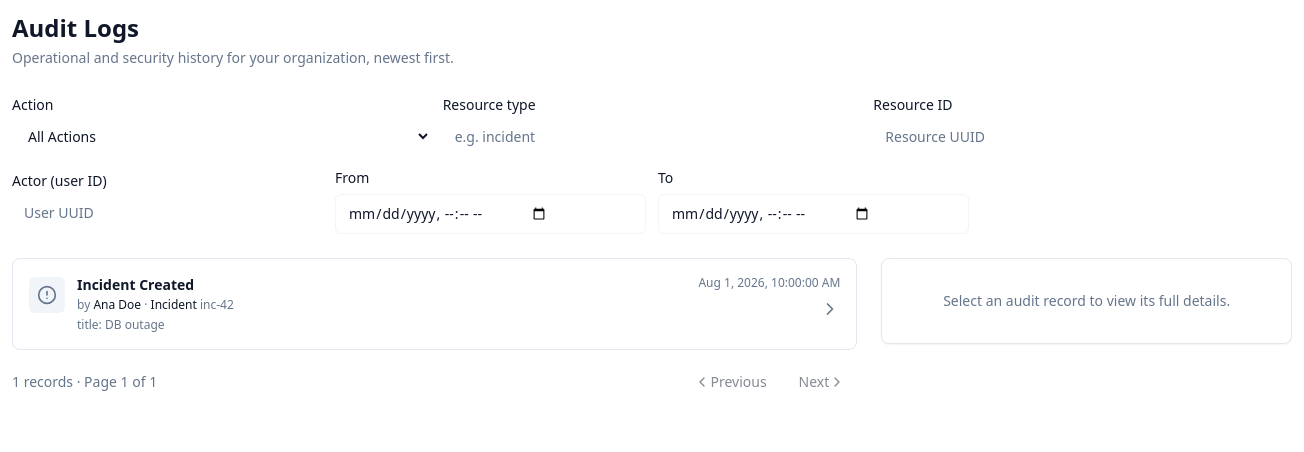
AuditLogsPage › offers filter inputs and reveals clear filters after input
Check: the dropdown named "Filter by action" is shown, box 12,116 -> 431,156
Type "incident" into the field named "Filter by resource type". click: (652, 136)
box: 443,116 -> 861,156
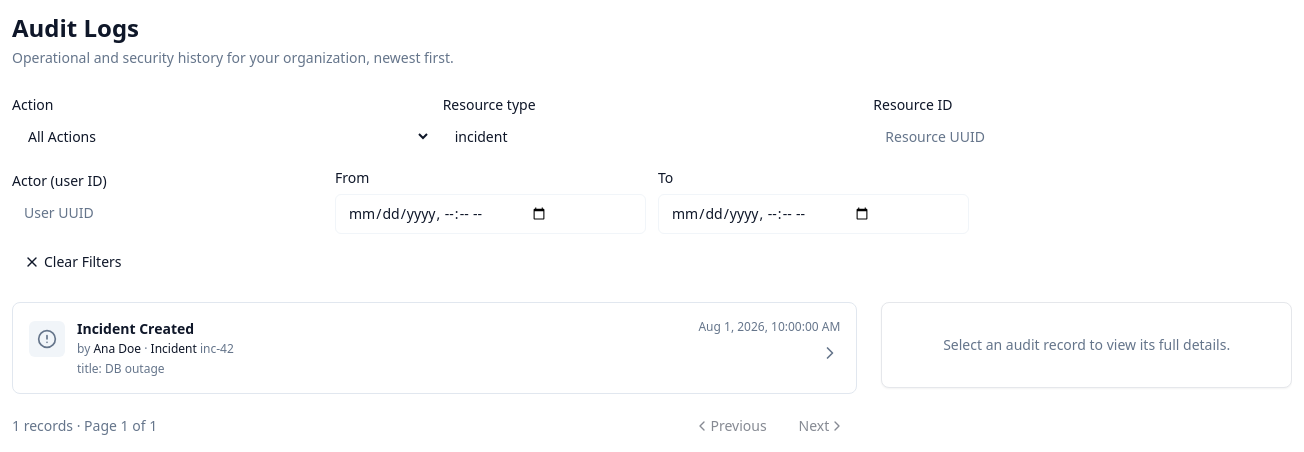
Check: the button "Clear Filters" is shown, box 12,246 -> 134,278
